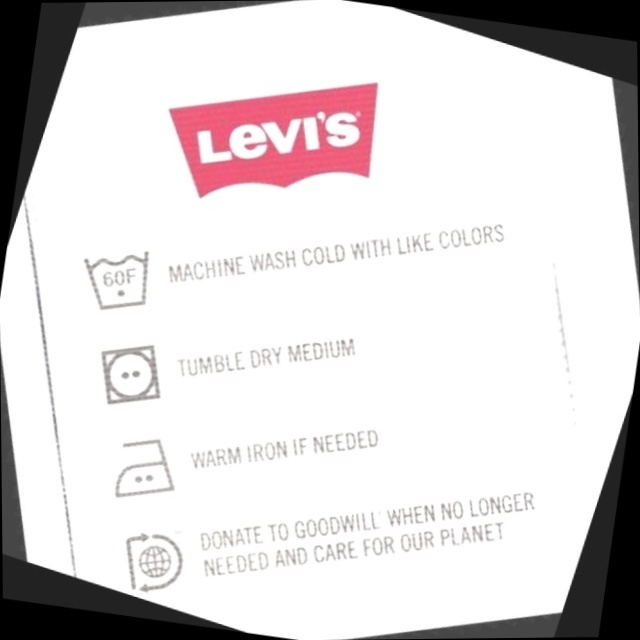30C: (70, 226, 168, 327)
iron_medium: (97, 419, 197, 518)
tumble_dry_medium: (84, 325, 183, 423)
